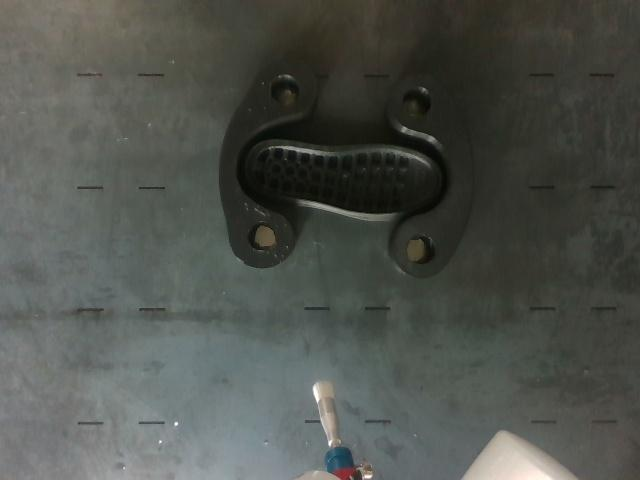shoes: (248, 143, 438, 214)
